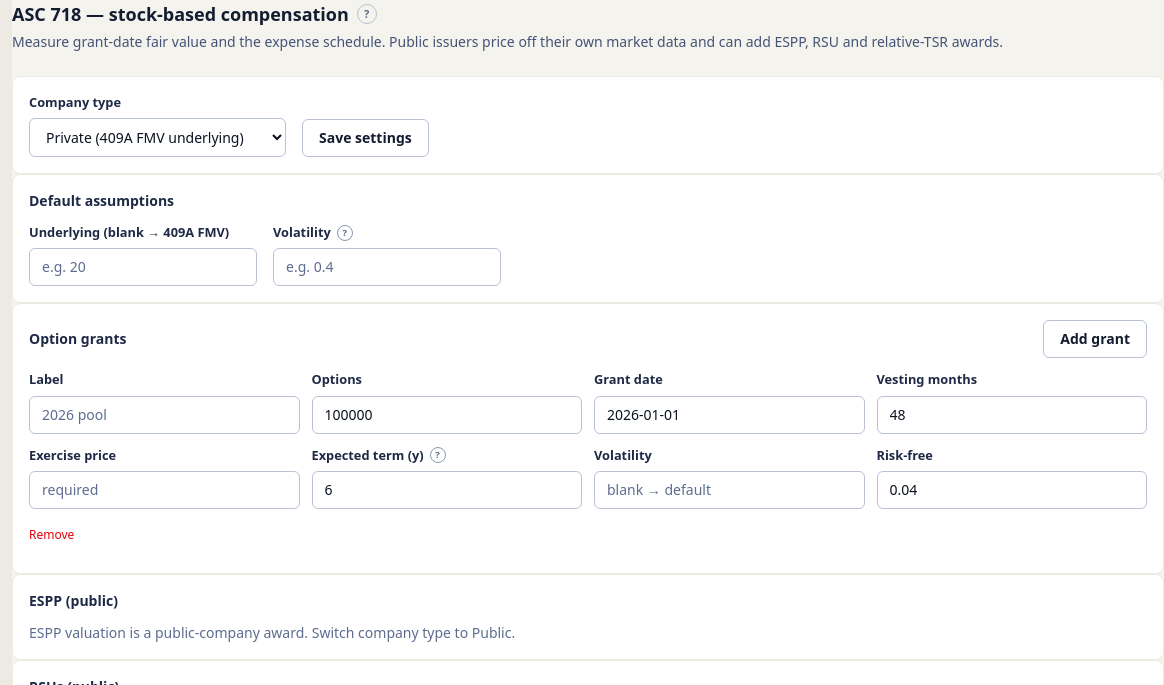
Test case: Asc718Tab › reveals the expected-term and lookback tooltips for public issuers
Switch to public to expose the expected-term method + ESPP awards.
Select "Public (market-price underlying)" in the dropdown labelled "Company type" at (158, 138), box [29,118,286,157]
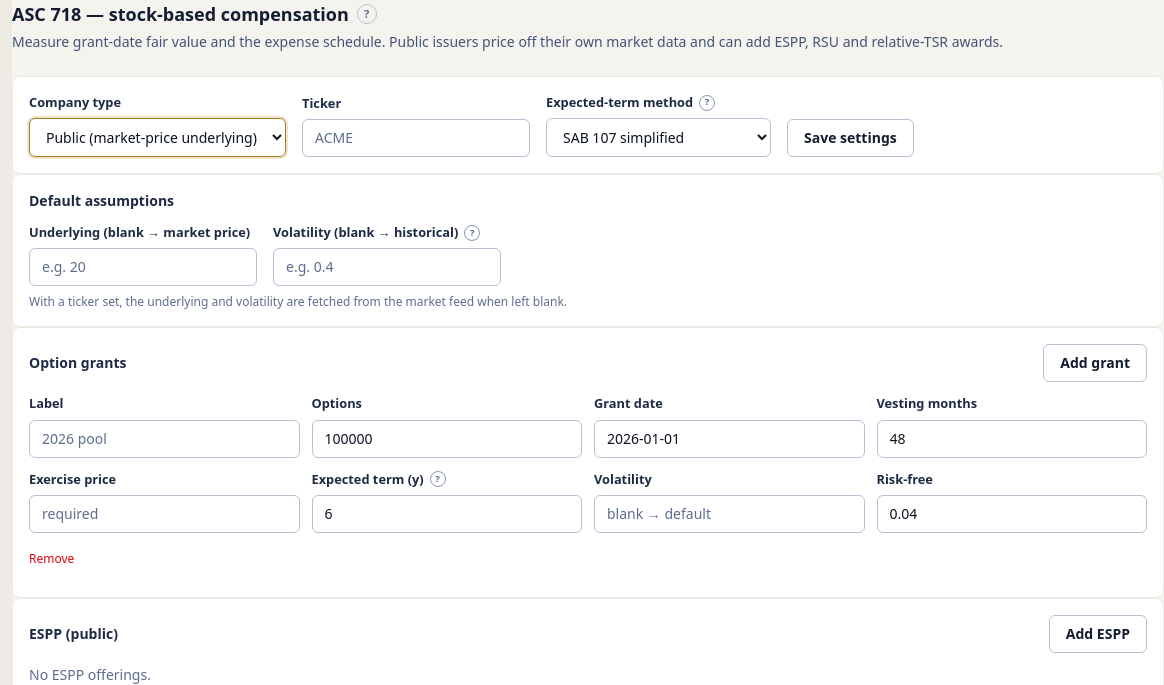
Result: the button named "About Expected-term method" is shown at [699,95,715,111]
Add an ESPP offering and confirm the lookback tooltip is present.
Click the button "Add ESPP" at (1098, 634), box [1049,615,1147,653]
(page scrolled)
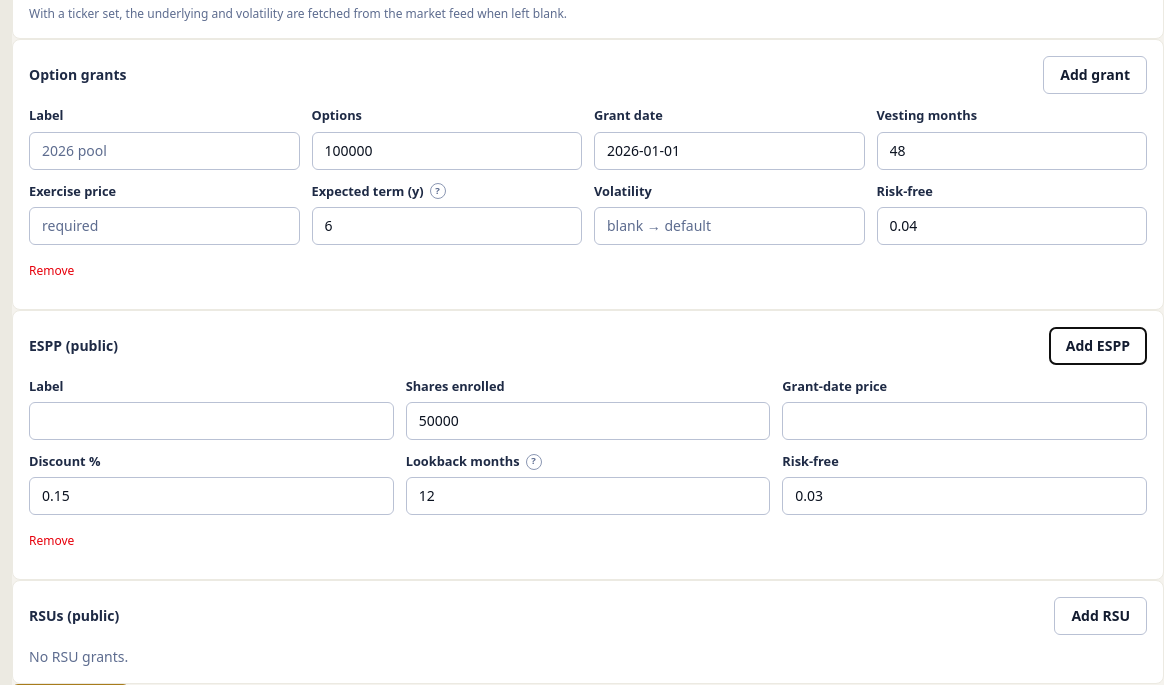
Result: the button named "About Lookback months" is shown at [526,454,542,470]
